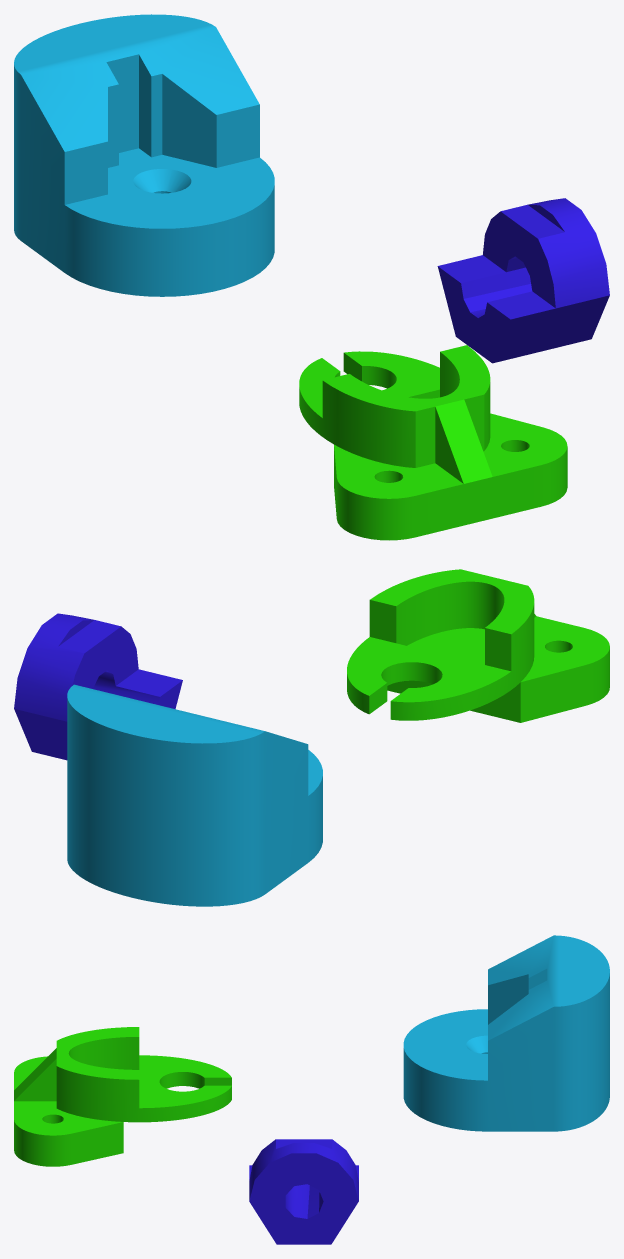
The model's file is 3models.gltf.
The picture shows the model from 3 angles, top to bottom: view 1: azimuth 30°, elevation 25°; view 2: azimuth 150°, elevation 25°; view 3: azimuth 270°, elevation 25°; orthographic projection. The views are drawn at different scales.
Visible parts, largest first — view 1: tut3qn2a (1), tut3qn2c, tut3qn1a(new); view 2: tut3qn2a (1), tut3qn2c, tut3qn1a(new); view 3: tut3qn2a (1), tut3qn2c, tut3qn1a(new).
Boxes of the visible parts, left/top/right/bottom form: tut3qn2a (1): left=14, top=14, right=274, bottom=296; tut3qn2c: left=299, top=345, right=567, bottom=540; tut3qn1a(new): left=437, top=198, right=609, bottom=363; tut3qn2a (1): left=67, top=684, right=322, bottom=906; tut3qn2c: left=347, top=569, right=609, bottom=722; tut3qn1a(new): left=14, top=613, right=182, bottom=760; tut3qn2a (1): left=403, top=935, right=609, bottom=1131; tut3qn2c: left=14, top=1027, right=231, bottom=1166; tut3qn1a(new): left=249, top=1139, right=358, bottom=1244.
Size of the model in its own units: 21.97 by 11.83 by 38.09.
